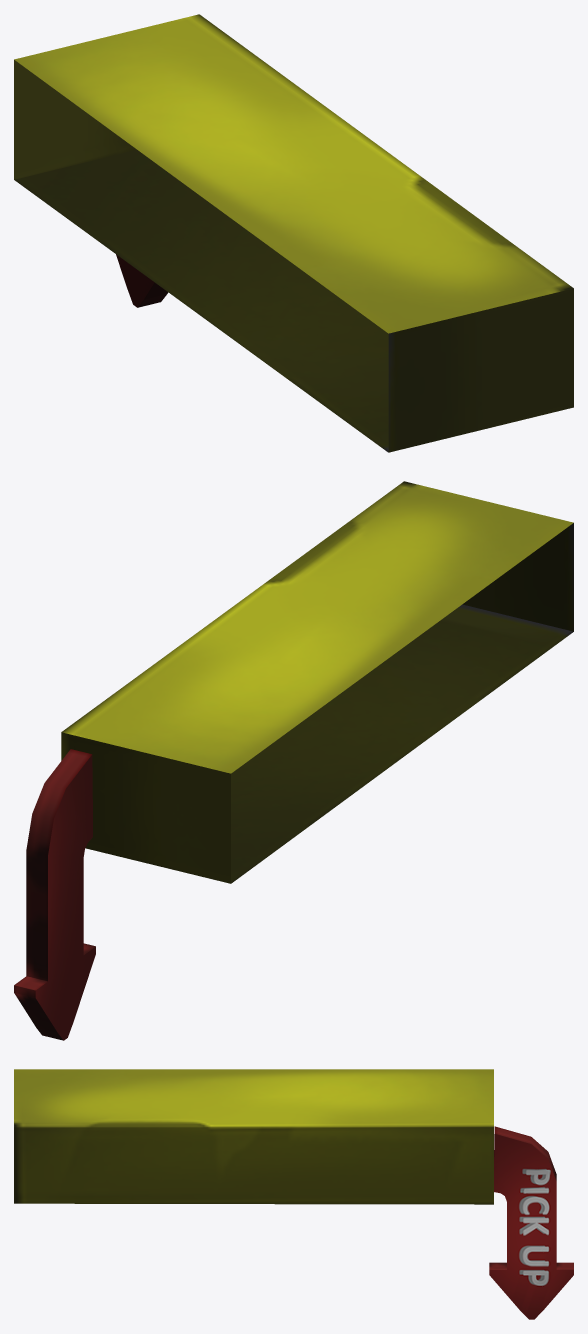
The model's file is Tx_props_burger_sign_extension_42.fbx.
The picture shows the model from 3 angles, top to bottom: view 1: azimuth 30°, elevation 25°; view 2: azimuth 150°, elevation 25°; view 3: azimuth 270°, elevation 25°; orthographic projection. The views are drawn at different scales.
Visible parts, largest first — view 1: Tx_props_burger_sign_extension; view 2: Tx_props_burger_sign_extension; view 3: Tx_props_burger_sign_extension.
Boxes of the visible parts, x1,y1,x2,y2 form: Tx_props_burger_sign_extension: (14,14,573,452); Tx_props_burger_sign_extension: (14,481,573,1040); Tx_props_burger_sign_extension: (14,1069,573,1319).
Bounding box in the file's own units: 5.48 × 8.62 × 22.37.
